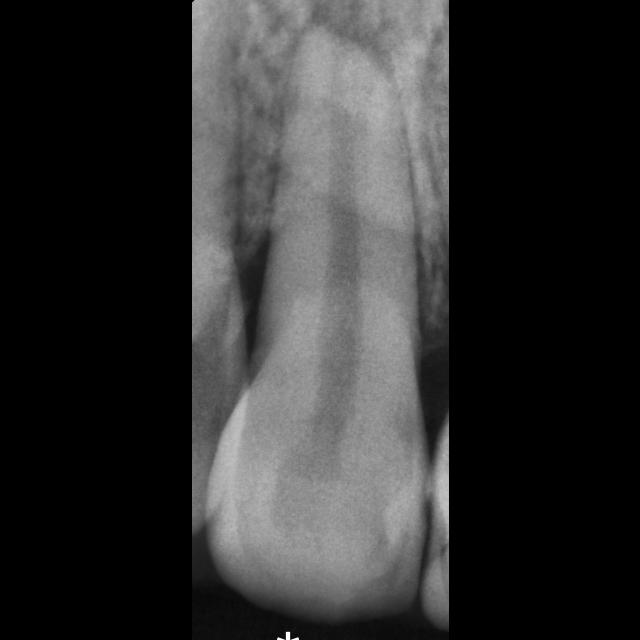tooth: (200, 25, 430, 625)
